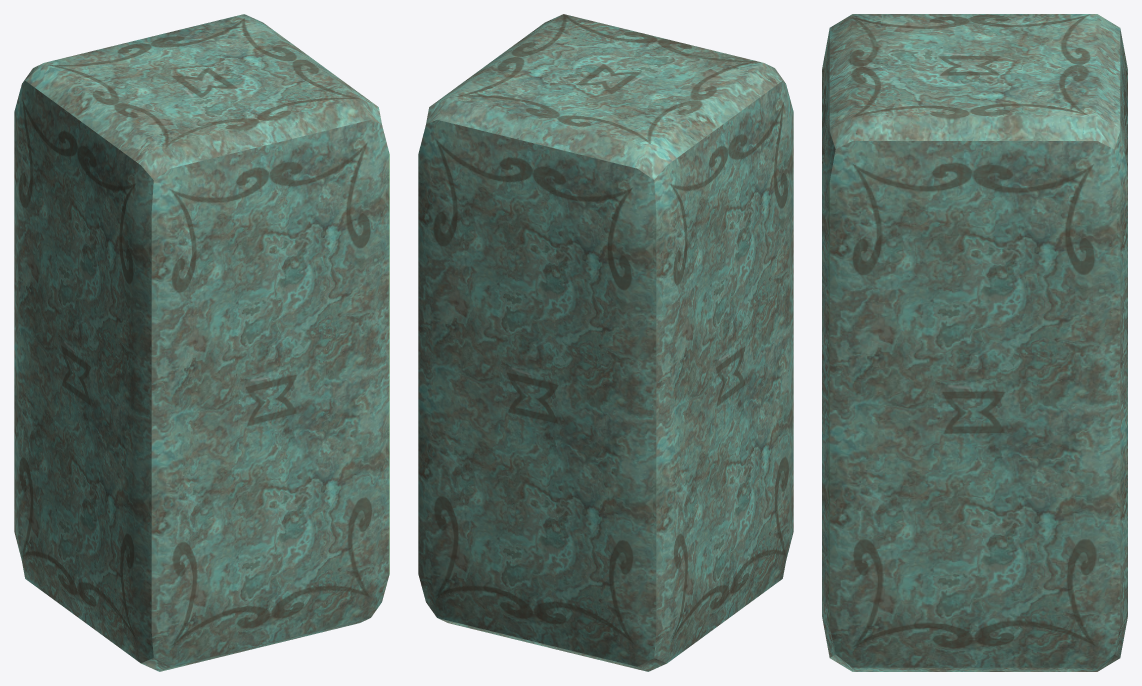
Rendered from TeleportStone2.FBX.
The picture shows the model from 3 angles, left to right: view 1: azimuth 30°, elevation 25°; view 2: azimuth 150°, elevation 25°; view 3: azimuth 270°, elevation 25°; orthographic projection. The views are drawn at different scales.
Visible parts, largest first — view 1: Box002; view 2: Box002; view 3: Box002.
Boxes of the visible parts, x1,y1,x2,y2 form: Box002: (14,14,389,671); Box002: (418,14,793,671); Box002: (822,14,1127,671).
Bounding box in the file's own units: 10 × 20 × 10.
